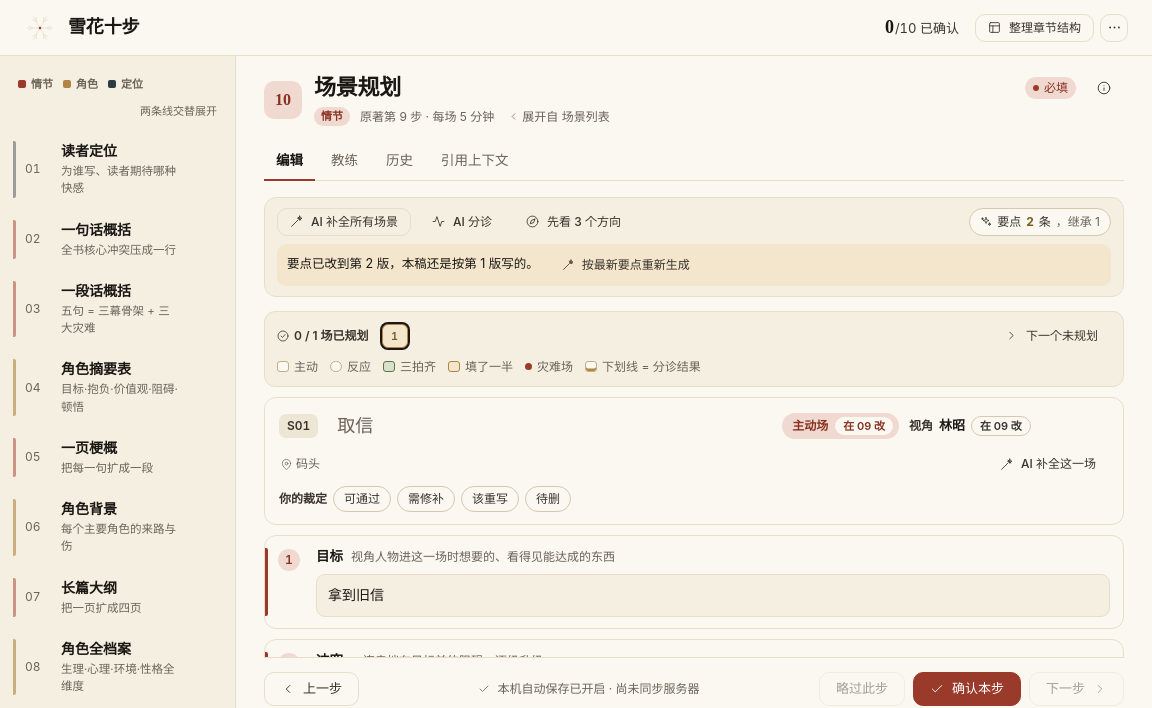
Test case: 阶段 U · 教练 · 要点 · 方向 · 生成 › B06-20：分诊成功只有 AI 一条路——历史记「AI」，回执不再提「规则诊断」
The image size is (1152, 708).
Click the button with test id "snow-ai-triage" at point(462, 222), box [419,208,505,236]
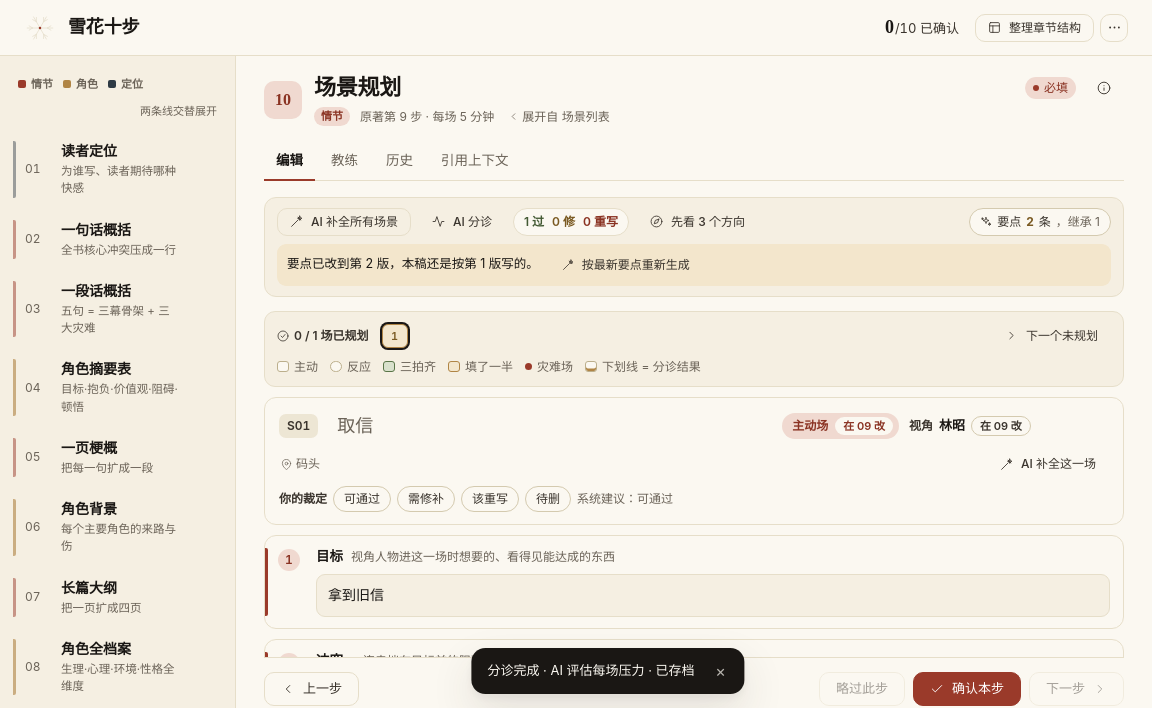
expect the message with test id "undo-toast" shows "分诊完成": met, box [487,662,695,678]
